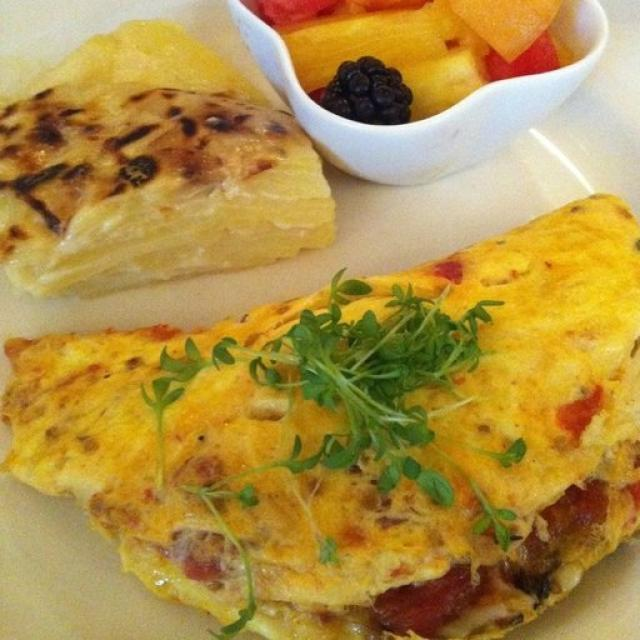telur_ayam_dadar: (1, 190, 640, 639)
